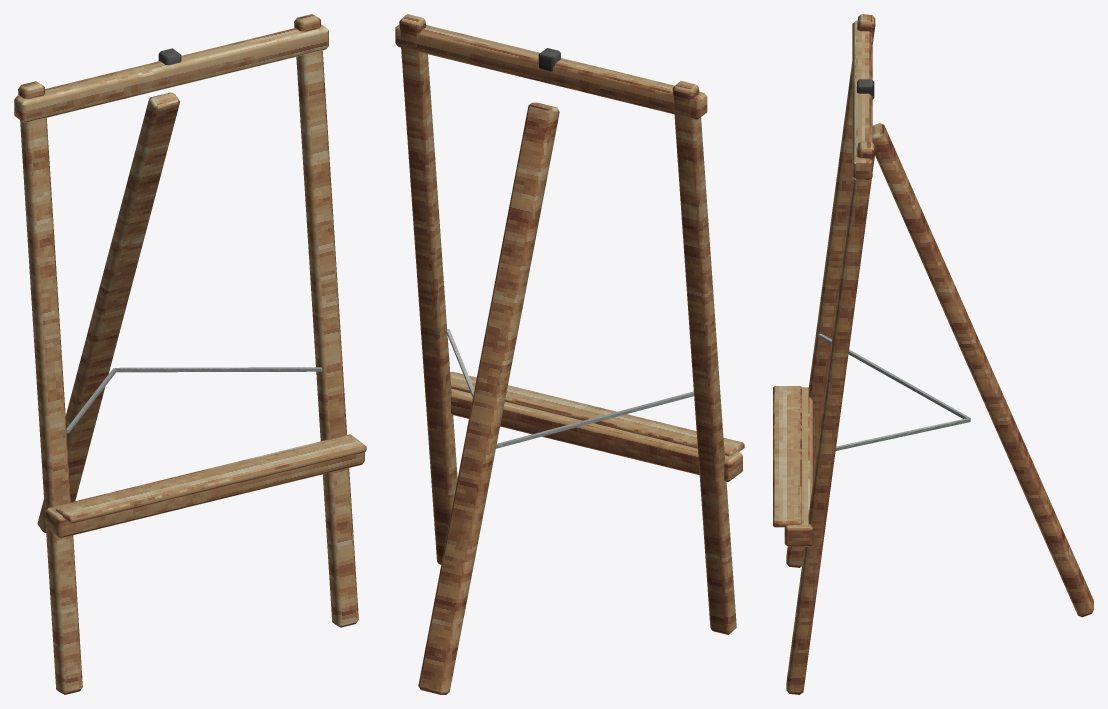
File: menu_easel.glb
3 views of the same model, side by side, from view 1: azimuth 30°, elevation 25°; view 2: azimuth 150°, elevation 25°; view 3: azimuth 270°, elevation 25° (orthographic). The views are drawn at different scales.
Parts seen in each view (by area): view 1: mesh; view 2: mesh; view 3: mesh.
Part boxes in pixels (box(x1,y1,x2,y2)): mesh: box(14, 14, 366, 694); mesh: box(395, 14, 744, 694); mesh: box(773, 14, 1093, 694).
Bounding box in the file's own units: 0.5802 × 1.04 × 0.5555.
1 material, 1 textured.
